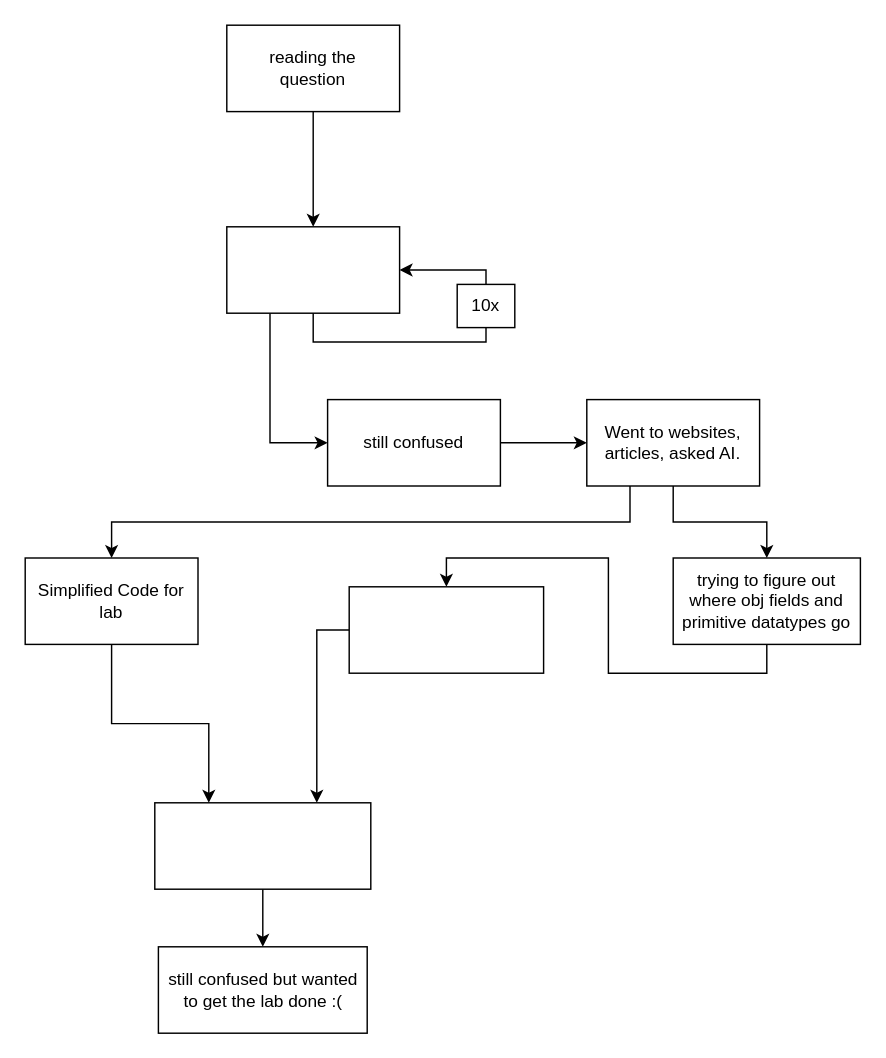
The diagram is 886 pixels wide and 1058 high, and some of its shapes have lost their labels. The shapes that lost their labels are listed below. From the top down, each one's box as (x1, y1, x2, y2) in pixels, then its label:
(225, 225, 400, 313): rereading the material for lab
(348, 585, 544, 673): trying to understanding how heap and stack work
(153, 801, 371, 889): rewrote code for lab to make it understandable and more simpler
